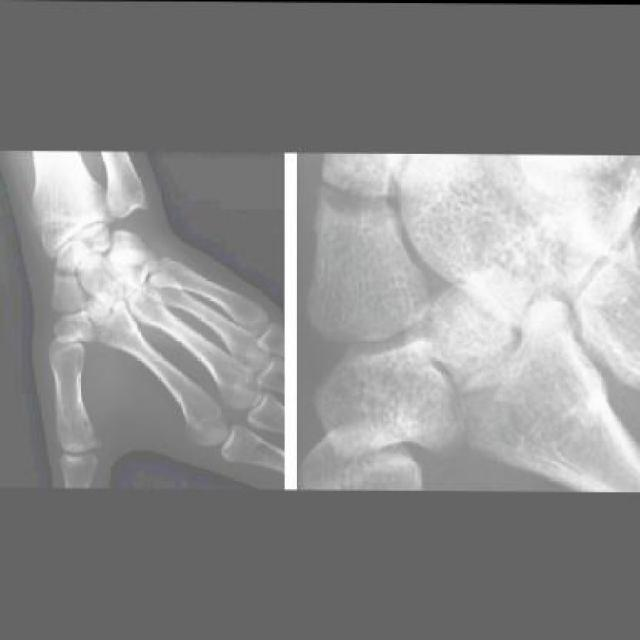Fracture: (394, 338, 497, 450), (74, 311, 105, 339)
